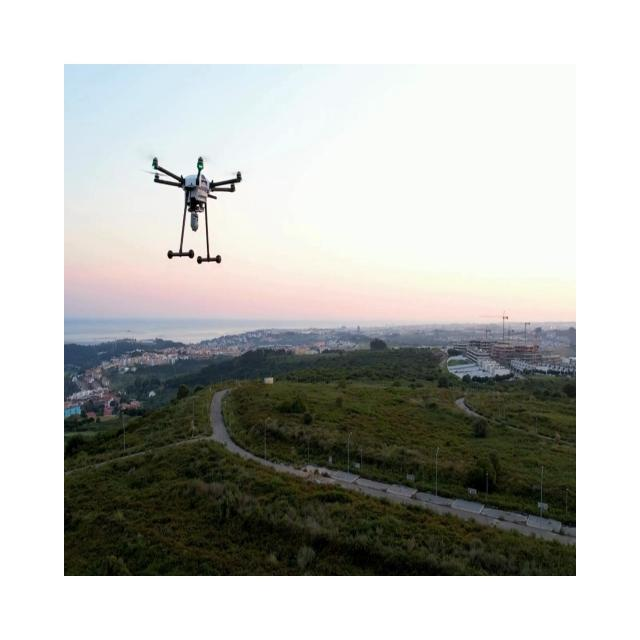drone: (141, 154, 242, 264)
